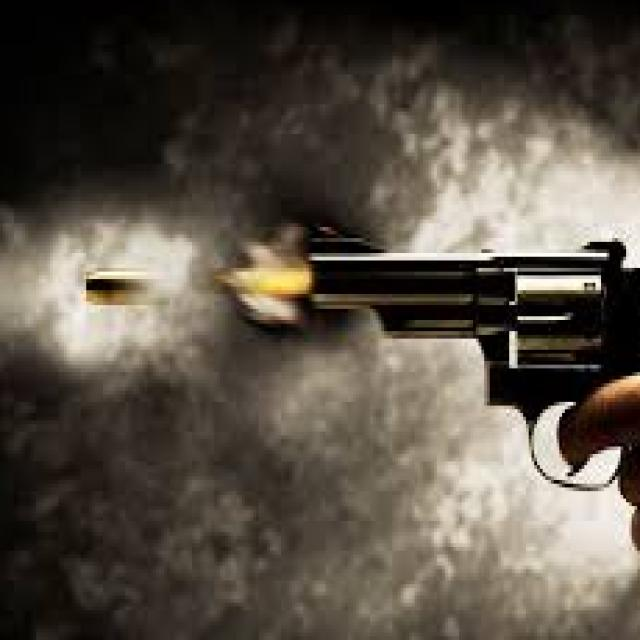gun: (70, 159, 640, 636)
